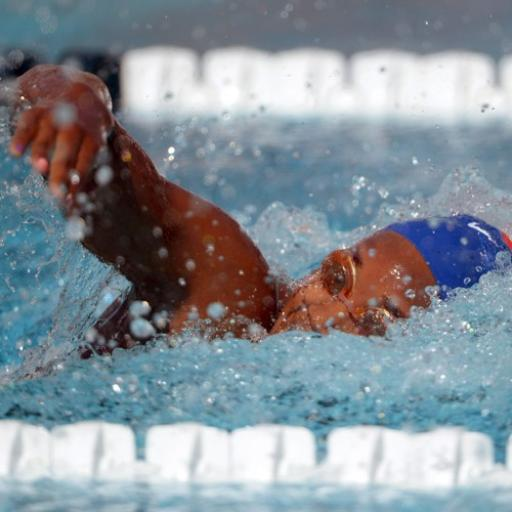swimming: (5, 60, 511, 360)
